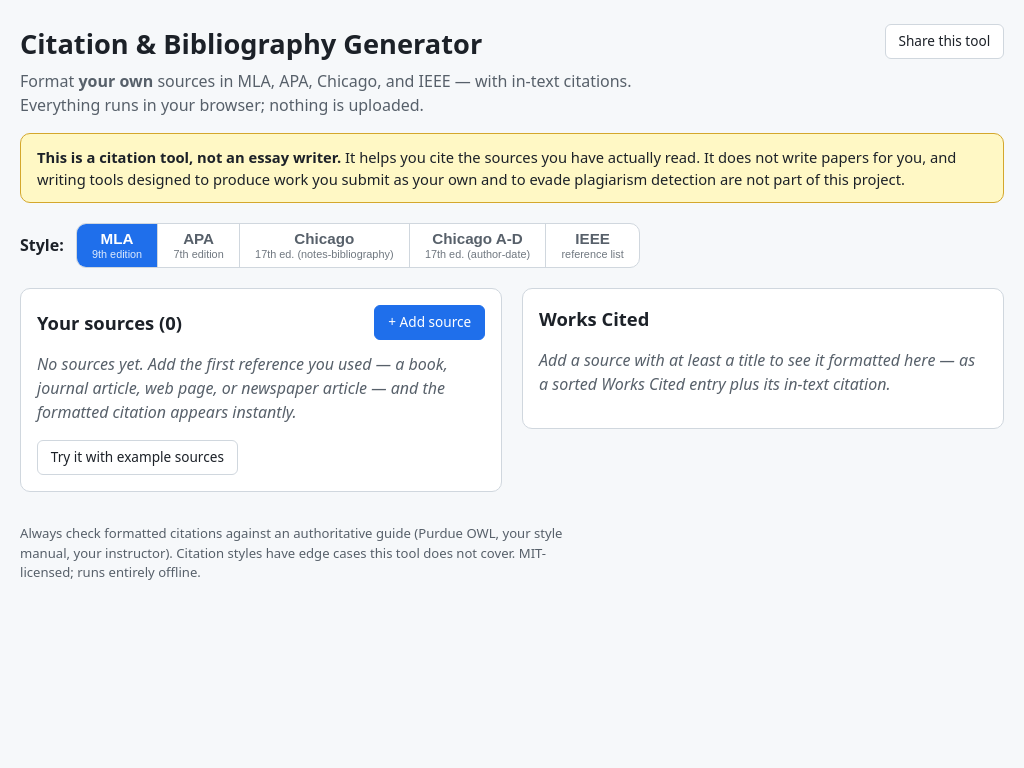
App › loads example sources from the empty state
Click the button "Try it with example sources". click: (137, 458)
box: x1=37 y1=440 x2=238 y2=475
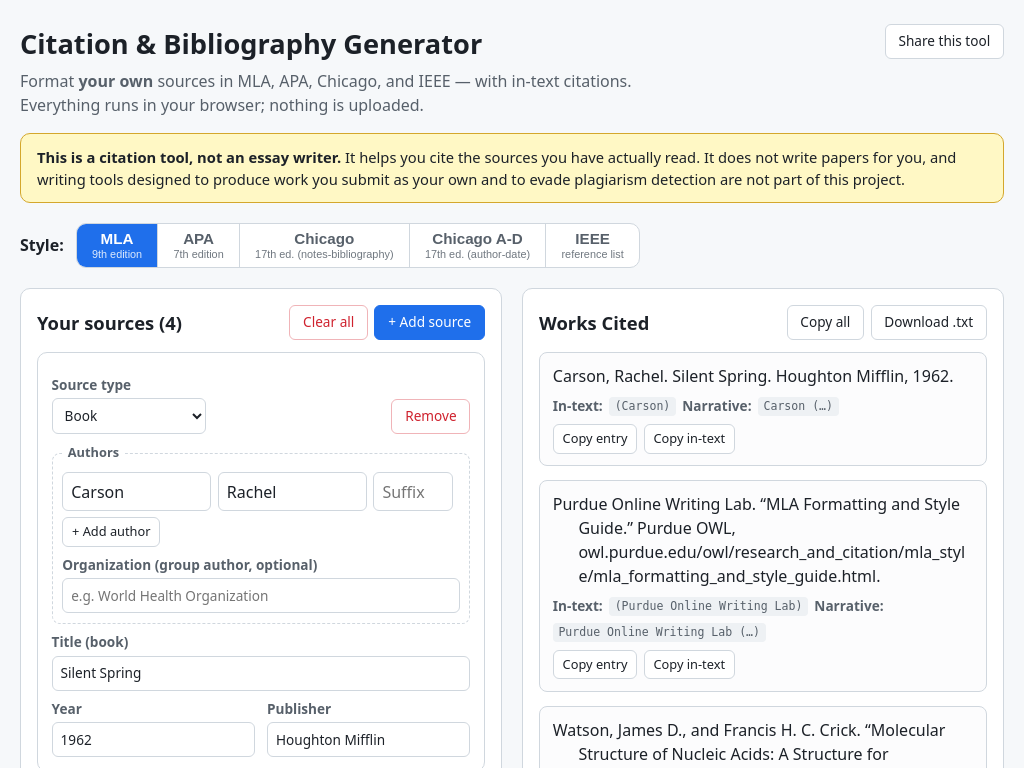
Now the text "Carson, Rachel. Silent Spring. Houghton Mifflin, 1962." is shown, box x1=553 y1=364 x2=973 y2=388
Now the button "Copy all" is shown, box x1=786 y1=305 x2=864 y2=340
Now the button "Download .txt" is shown, box x1=870 y1=305 x2=987 y2=340
